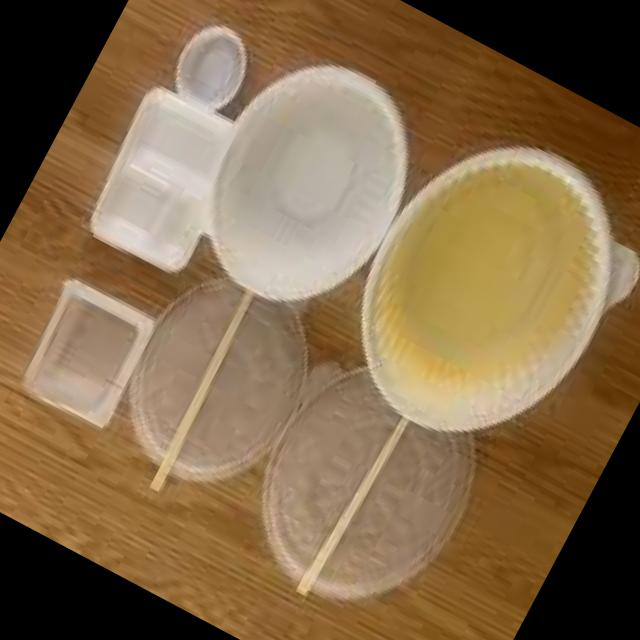plastic-bowl: (363, 148, 640, 436), (202, 60, 405, 304), (130, 279, 308, 480), (18, 278, 158, 431), (174, 27, 246, 109)
styrofoam: (89, 83, 230, 277)
wooden chopsticks: (147, 290, 255, 492), (292, 419, 406, 597)
